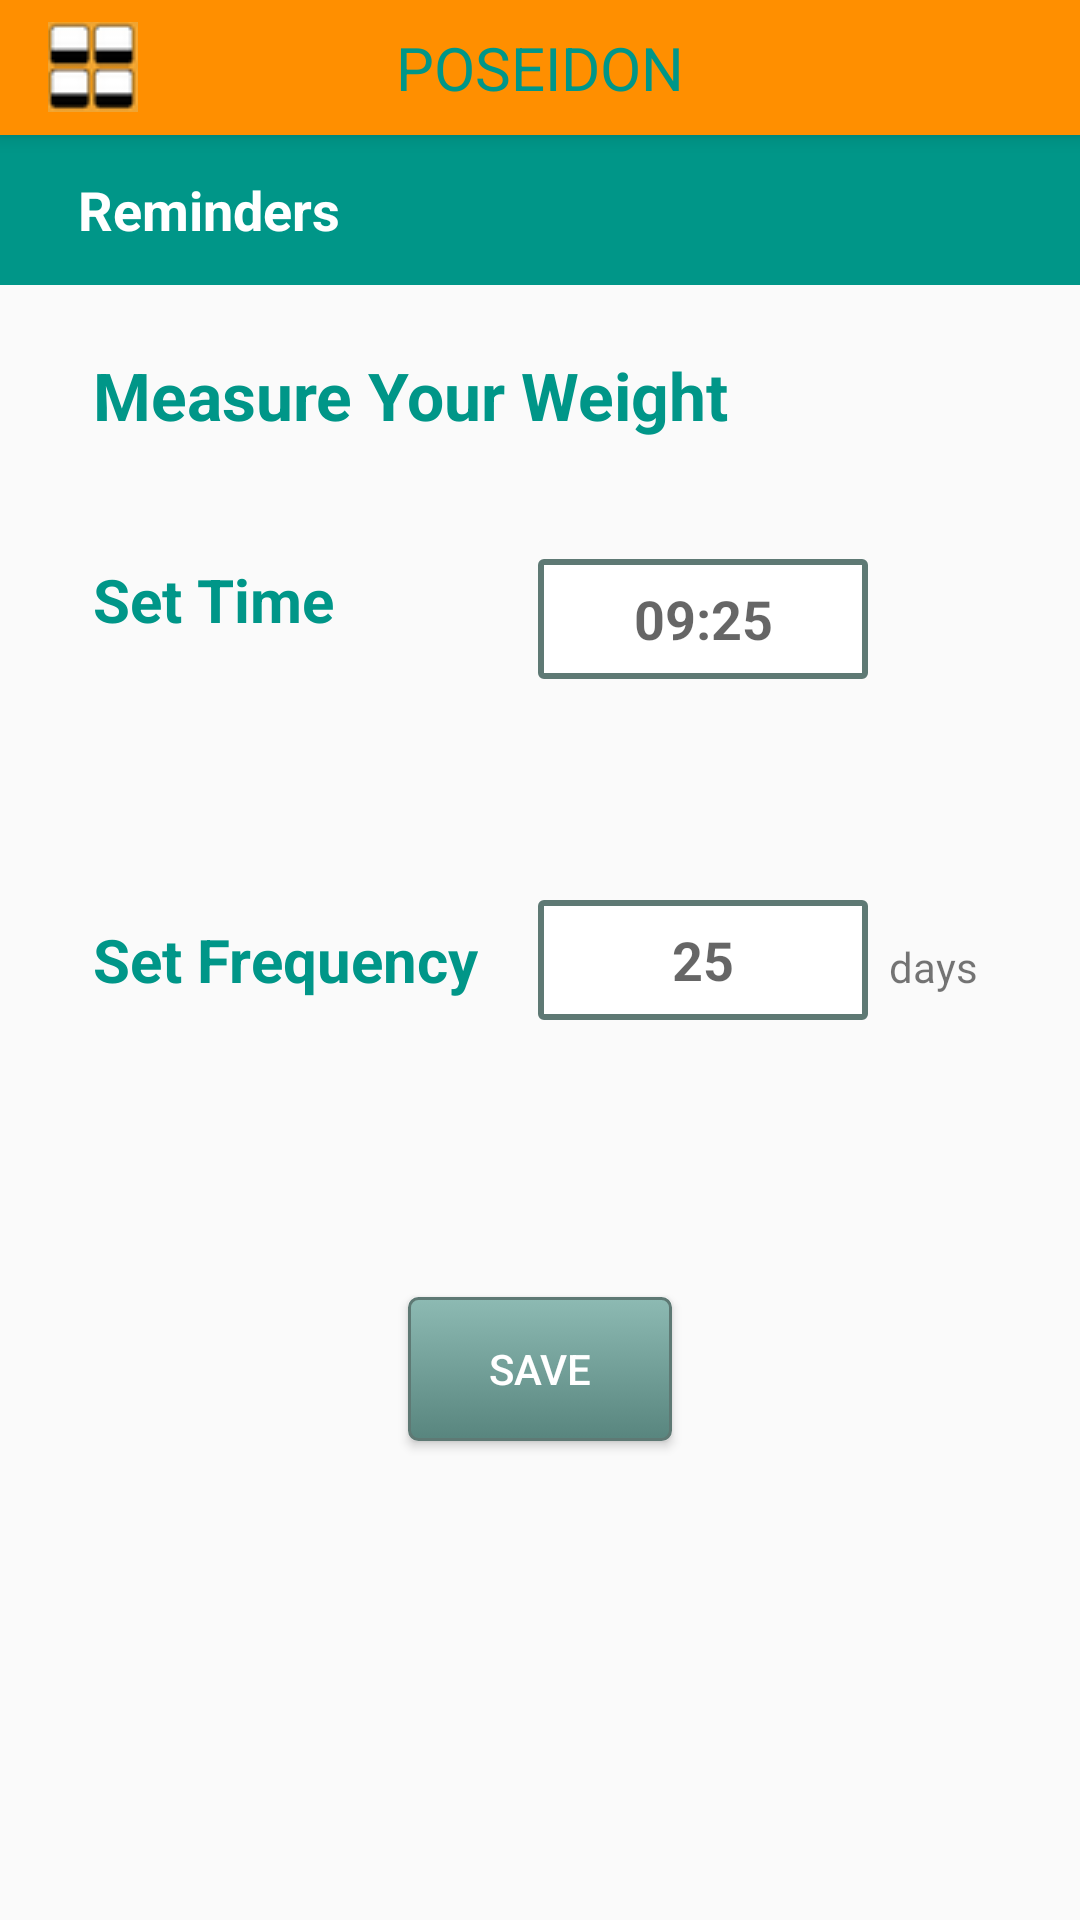

Screen size 1080x1920. Icon name, then its center in pixels as (x=x, y=y):
homebutton: (x=93, y=67)
